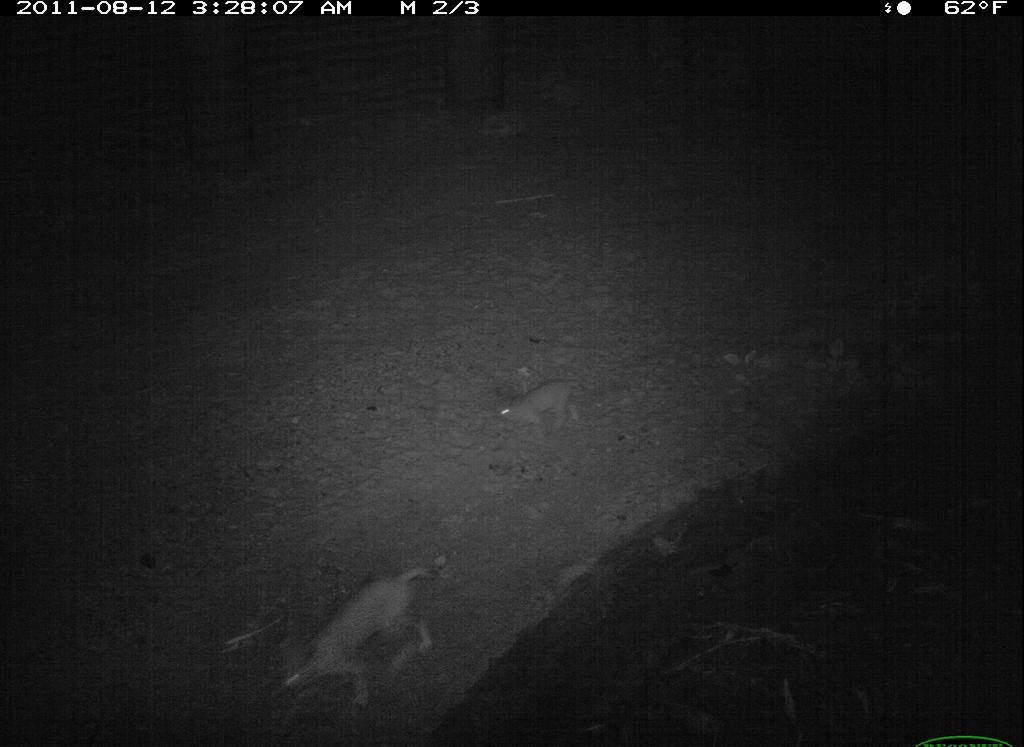bobcat: (259, 557, 473, 728), (478, 373, 601, 466)
